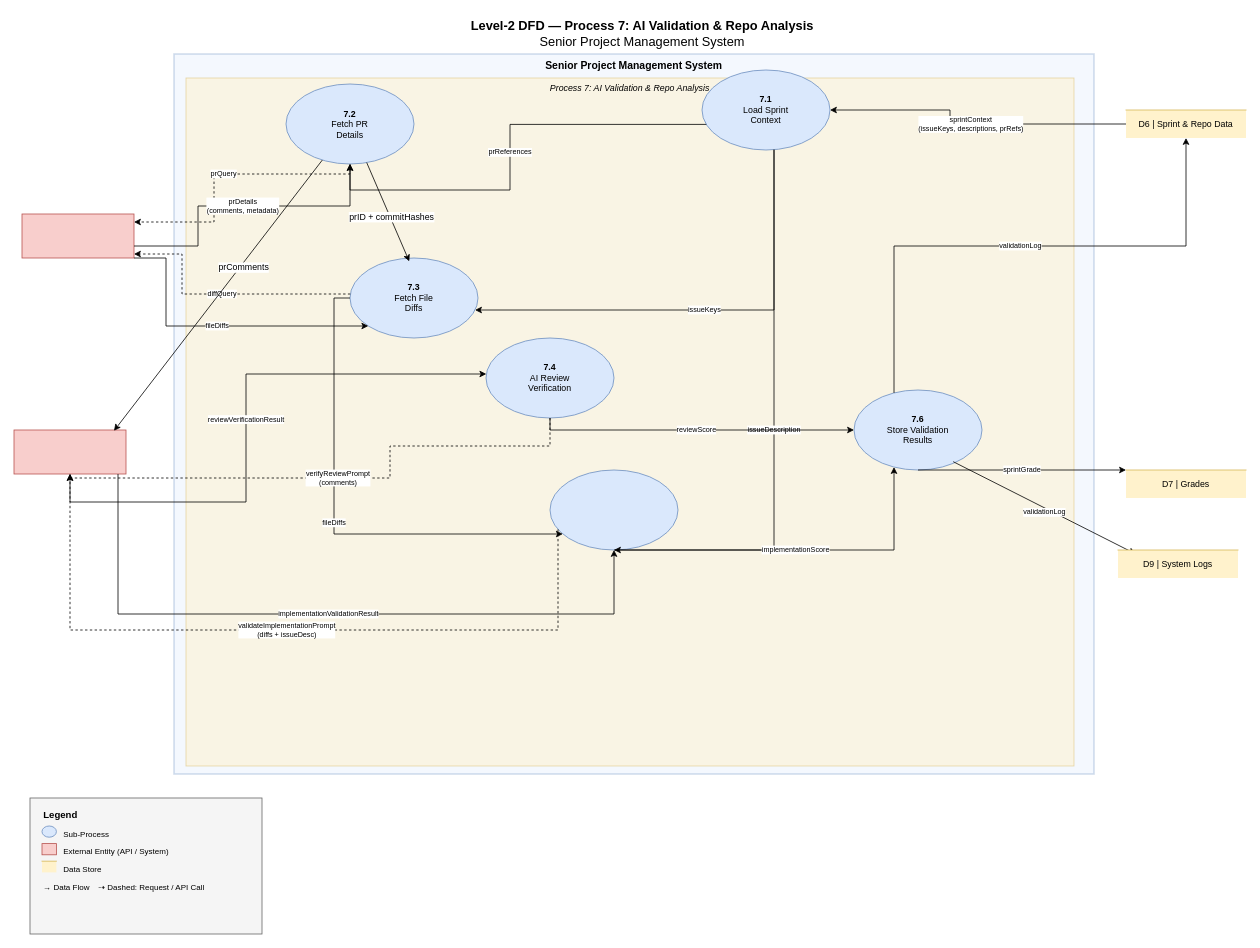
Some shapes in this 1260 by 948 pixel diagram are drawn without their labels. The shapes that lost their labels are listed below. From the top down, each one's centre as x and y in pixels, then its label:
point 77,235: GitHub API
point 69,451: AI Service (LLM / GPT)
point 613,509: 7.5 AI Implementation Validation
